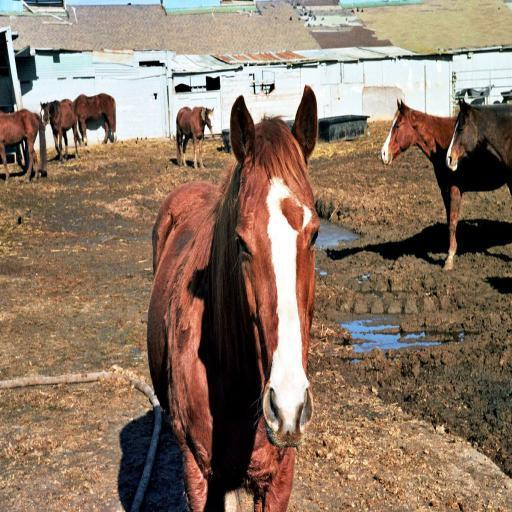horse: (144, 82, 324, 512), (380, 96, 512, 272), (445, 94, 512, 174), (0, 108, 47, 180), (175, 103, 216, 171), (39, 94, 79, 160), (72, 92, 117, 146)
